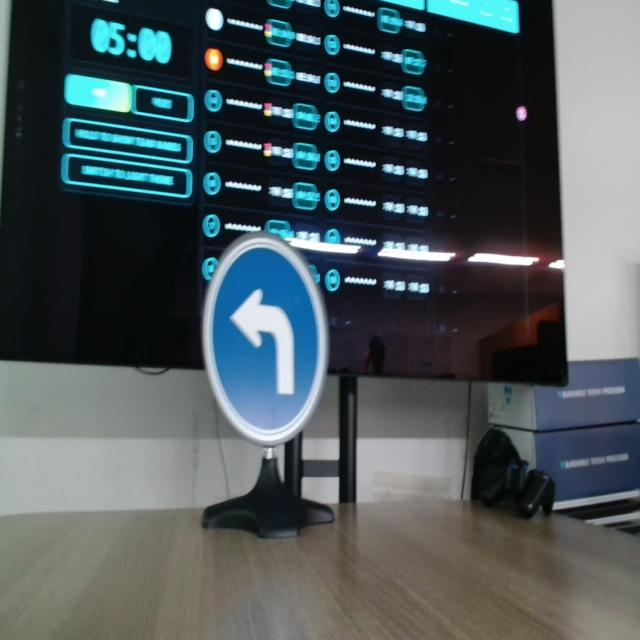left_direction: (200, 207, 339, 461)
